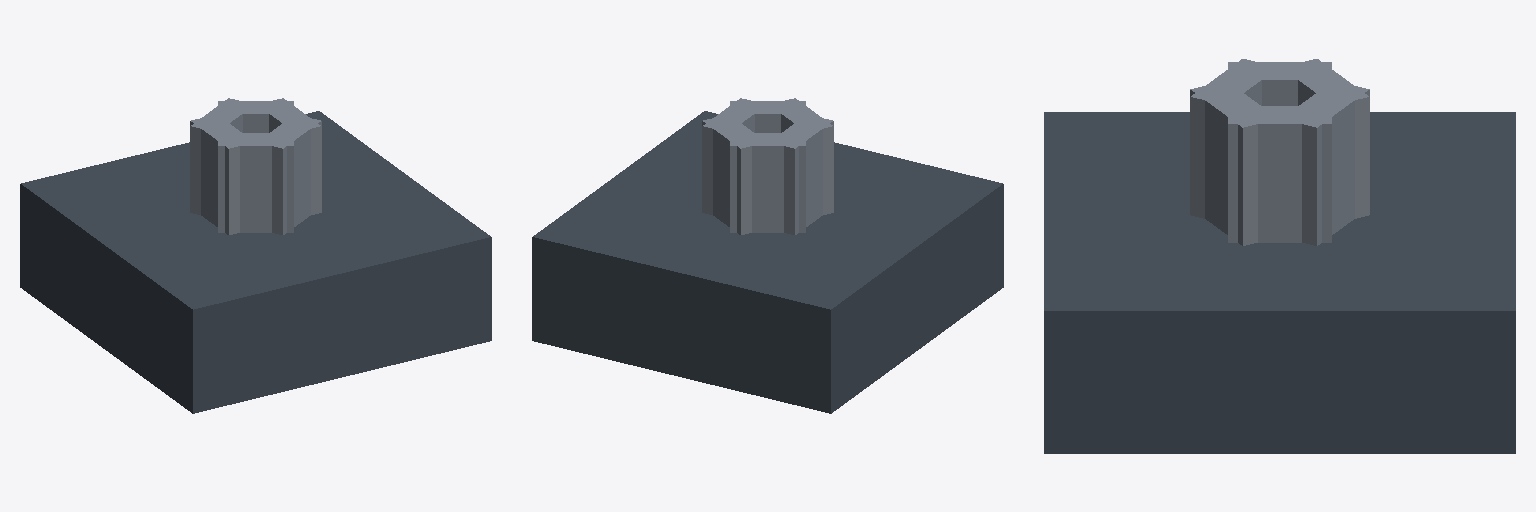
The robot description file, URDF, robot "allen_key_hex_socket":
<?xml version="1.0"?>
<robot name="allen_key_hex_socket">
  <link name="workpiece_root">
    <visual>
      <origin xyz="0 0 0.015" rpy="0 0 0"/>
      <geometry><box size="0.09 0.09 0.03"/></geometry>
      <material name="workpiece"><color rgba="0.32 0.36 0.40 1"/></material>
    </visual>
    <collision>
      <origin xyz="0 0 0.015" rpy="0 0 0"/>
      <geometry><box size="0.09 0.09 0.03"/></geometry>
    </collision>
    <!-- Six tangent walls form a 12 mm across-flats opening for the 10 mm key. -->
    <visual><origin xyz="0.010 0 0.0425" rpy="0 0 0"/><geometry><box size="0.008 0.020 0.025"/></geometry><material name="socket"><color rgba="0.55 0.58 0.62 1"/></material></visual>
    <collision><origin xyz="0.010 0 0.0425" rpy="0 0 0"/><geometry><box size="0.008 0.020 0.025"/></geometry></collision>
    <visual><origin xyz="-0.010 0 0.0425" rpy="0 0 0"/><geometry><box size="0.008 0.020 0.025"/></geometry><material name="socket"/></visual>
    <collision><origin xyz="-0.010 0 0.0425" rpy="0 0 0"/><geometry><box size="0.008 0.020 0.025"/></geometry></collision>
    <visual><origin xyz="0.005 0.008660 0.0425" rpy="0 0 1.0471975512"/><geometry><box size="0.008 0.020 0.025"/></geometry><material name="socket"/></visual>
    <collision><origin xyz="0.005 0.008660 0.0425" rpy="0 0 1.0471975512"/><geometry><box size="0.008 0.020 0.025"/></geometry></collision>
    <visual><origin xyz="-0.005 -0.008660 0.0425" rpy="0 0 1.0471975512"/><geometry><box size="0.008 0.020 0.025"/></geometry><material name="socket"/></visual>
    <collision><origin xyz="-0.005 -0.008660 0.0425" rpy="0 0 1.0471975512"/><geometry><box size="0.008 0.020 0.025"/></geometry></collision>
    <visual><origin xyz="-0.005 0.008660 0.0425" rpy="0 0 -1.0471975512"/><geometry><box size="0.008 0.020 0.025"/></geometry><material name="socket"/></visual>
    <collision><origin xyz="-0.005 0.008660 0.0425" rpy="0 0 -1.0471975512"/><geometry><box size="0.008 0.020 0.025"/></geometry></collision>
    <visual><origin xyz="0.005 -0.008660 0.0425" rpy="0 0 -1.0471975512"/><geometry><box size="0.008 0.020 0.025"/></geometry><material name="socket"/></visual>
    <collision><origin xyz="0.005 -0.008660 0.0425" rpy="0 0 -1.0471975512"/><geometry><box size="0.008 0.020 0.025"/></geometry></collision>
    <inertial>
      <origin xyz="0 0 0.02" rpy="0 0 0"/>
      <mass value="5.0"/>
      <inertia ixx="0.01" iyy="0.01" izz="0.018" ixy="0" ixz="0" iyz="0"/>
    </inertial>
  </link>
</robot>

--- What the picture shows (computed from the rendered views, not written in the file) ---
3 views of the same robot in one strip: view 1: azimuth 30°, elevation 25°; view 2: azimuth 150°, elevation 25°; view 3: azimuth 270°, elevation 25° (orthographic).
Model allen_key_hex_socket with 1 links and 0 joints (none), rooted at workpiece_root, posed all joints at 0.
Links seen in each view (by area): view 1: workpiece_root; view 2: workpiece_root; view 3: workpiece_root.
Link boxes in pixels (x1,y1,x2,y2): workpiece_root: (20, 98, 491, 413); workpiece_root: (532, 98, 1003, 413); workpiece_root: (1044, 59, 1515, 453).
Bounding box of the posed robot: 0.09 × 0.09 × 0.055 m (x, y, z).
Geometry: primitives only (box / cylinder / sphere), no mesh files.
